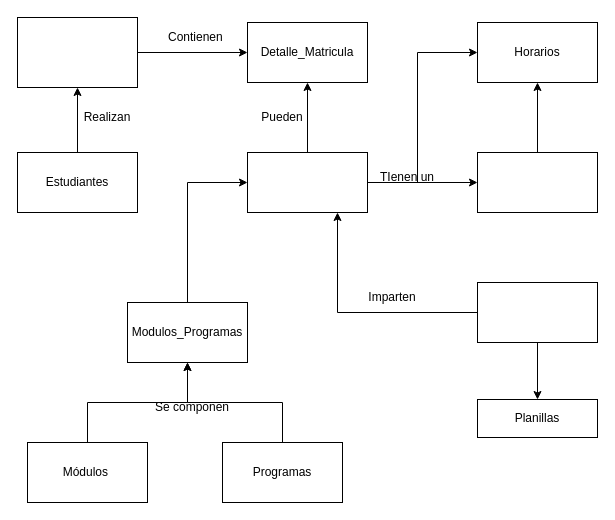
Some shapes in this 615 by 520 pixel diagram are drawn without their labels. Each missing label, with the box of its shape:
Laboratorios: (476, 152, 598, 212)
Matriculas: (16, 16, 138, 88)
Módulos_Abiertos: (246, 152, 368, 212)
Profesores: (476, 282, 598, 342)
